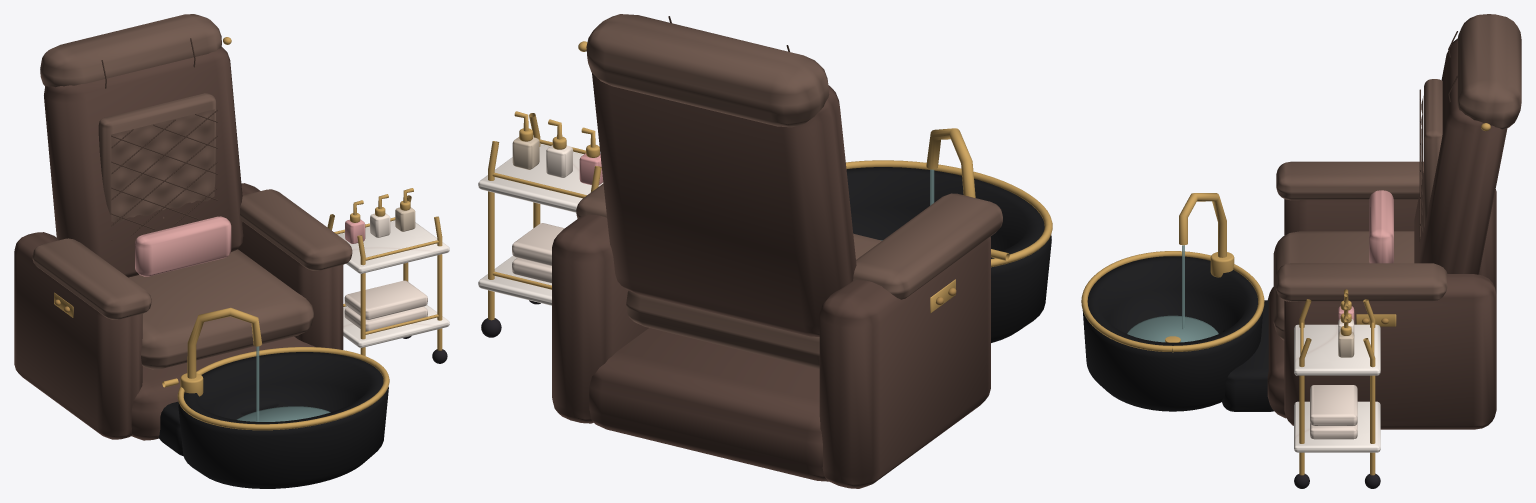
The model's file is pedicure_station_v3.glb.
The picture shows the model from 3 angles, left to right: view 1: azimuth 30°, elevation 25°; view 2: azimuth 150°, elevation 25°; view 3: azimuth 270°, elevation 25°; orthographic projection. The views are drawn at different scales.
Visible parts, largest first — view 1: hollow_elliptical_black_ceramic, high_reclining_padded_back, continuous_full_height_side_shell, deep_contoured_seat, raised_diamond_quilt_geometry, thick_pillowed_headrest, continuous_full_height_side_shell.001, soft_padded_arm_cap, soft_padded_arm_cap.001, soft_peach_lumbar_pillow, grounded_leather_plinth, diamond_quilted_back_insert (+10 smaller); view 2: high_reclining_padded_back, continuous_full_height_side_shell, grounded_leather_plinth, thick_pillowed_headrest, hollow_elliptical_black_ceramic, continuous_full_height_side_shell.001, soft_padded_arm_cap, deep_contoured_seat, ivory_two_tier_tray.001, continuous_brushed_gold_rim, ivory_two_tier_tray, high_arc_water_spout (+6 smaller); view 3: hollow_elliptical_black_ceramic, continuous_full_height_side_shell.001, high_reclining_padded_back, thick_pillowed_headrest, soft_padded_arm_cap.001, soft_padded_arm_cap, continuous_full_height_side_shell, deep_contoured_seat, ivory_two_tier_tray.001, continuous_brushed_gold_rim, basin_to_chair_connector, ivory_two_tier_tray (+10 smaller).
Boxes of the visible parts, x1,y1,x2,y2 form: hollow_elliptical_black_ceramic: (178,352,388,488); high_reclining_padded_back: (44,47,243,277); continuous_full_height_side_shell: (14,232,142,439); deep_contoured_seat: (128,249,313,369); raised_diamond_quilt_geometry: (111,109,214,222); thick_pillowed_headrest: (40,14,221,87); continuous_full_height_side_shell.001: (238,183,343,349); soft_padded_arm_cap: (32,238,151,319); soft_padded_arm_cap.001: (240,189,352,270); soft_peach_lumbar_pillow: (135,216,231,276); grounded_leather_plinth: (131,336,315,440); diamond_quilted_back_insert: (98,93,216,214); high_reclining_padded_back: (592,73,856,336); continuous_full_height_side_shell: (819,237,990,488); grounded_leather_plinth: (589,328,828,481); thick_pillowed_headrest: (586,14,829,127); hollow_elliptical_black_ceramic: (846,167,1051,342); continuous_full_height_side_shell.001: (552,214,648,423); soft_padded_arm_cap: (853,193,1002,299); deep_contoured_seat: (626,233,881,369); ivory_two_tier_tray.001: (478,144,603,212); continuous_brushed_gold_rim: (846,160,1052,267); ivory_two_tier_tray: (478,256,551,305); high_arc_water_spout: (926,128,975,197); hollow_elliptical_black_ceramic: (1082,256,1262,411); continuous_full_height_side_shell.001: (1284,274,1496,429); high_reclining_padded_back: (1414,38,1507,274); thick_pillowed_headrest: (1457,14,1521,129); soft_padded_arm_cap.001: (1276,263,1447,301); soft_padded_arm_cap: (1276,161,1423,200); continuous_full_height_side_shell: (1284,189,1496,292); deep_contoured_seat: (1273,231,1414,340); ivory_two_tier_tray.001: (1294,324,1380,375); continuous_brushed_gold_rim: (1081,251,1264,352); basin_to_chair_connector: (1222,300,1273,411); ivory_two_tier_tray: (1294,401,1380,452).
Size of the model in its own units: 2.38 by 2.06 by 2.49.
14 materials, 1 textured.
